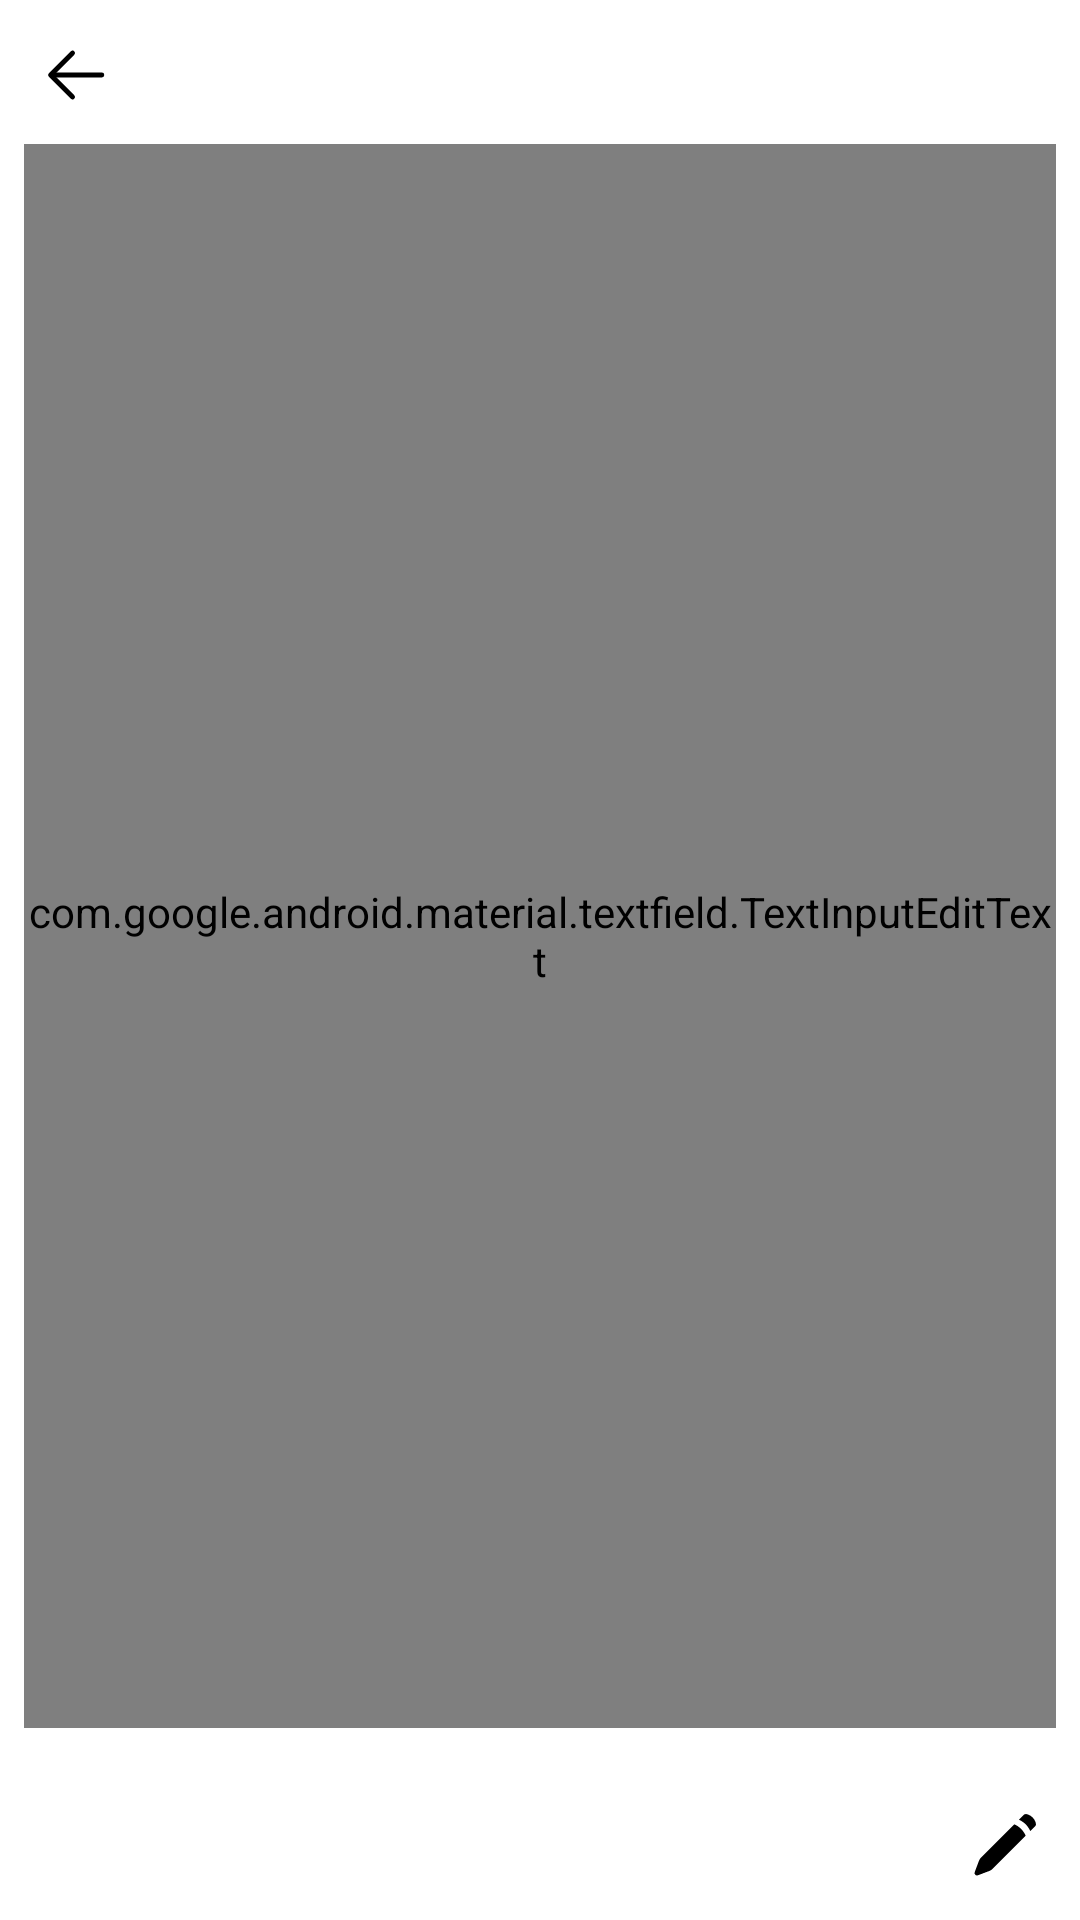

Screen size 1080x1920. Icon name, then its box in pixels as (x1, y1, x2, y2):
back: (48, 50, 105, 100)
